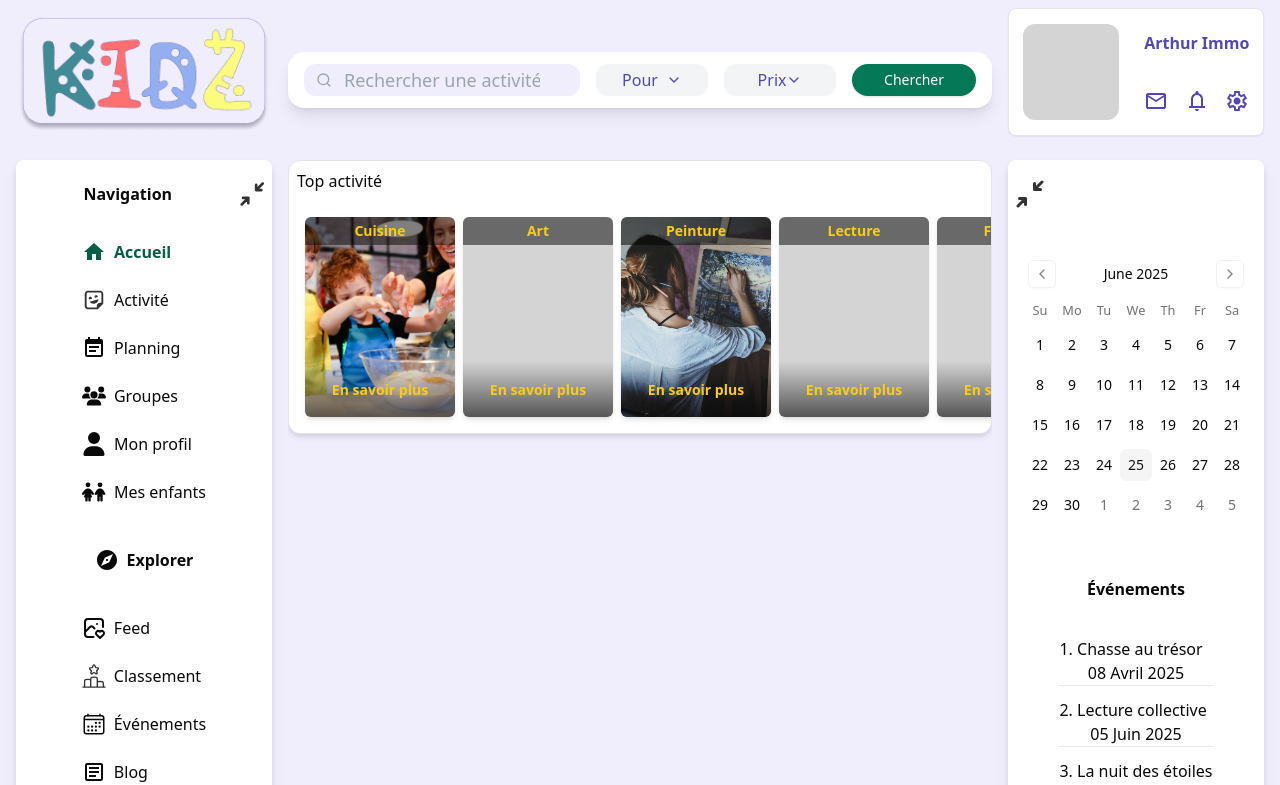
SearchBar Component › Fonctionnalité de recherche › affiche les résultats de recherche
Type "football" into the field with placeholder "Rechercher une activité, un utilisateur...". click: (442, 80)
box: [304,64,580,96]
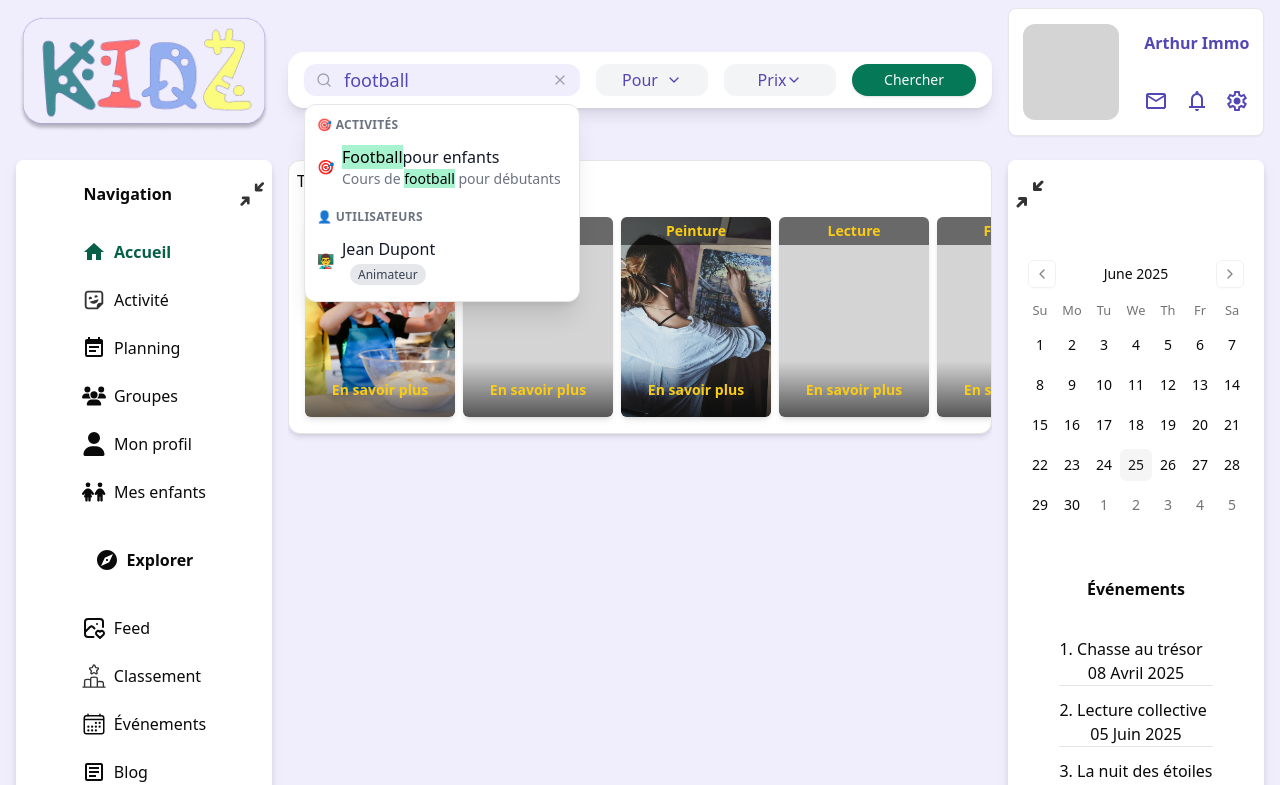
Now the element with test id "search-dropdown" is shown, box [304,104,580,302]
